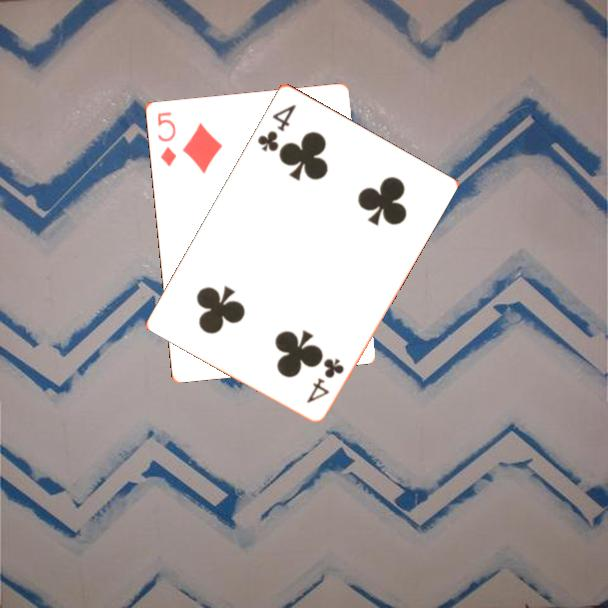c04: (254, 100, 299, 154), (303, 354, 347, 406)
d05: (154, 108, 179, 169)
